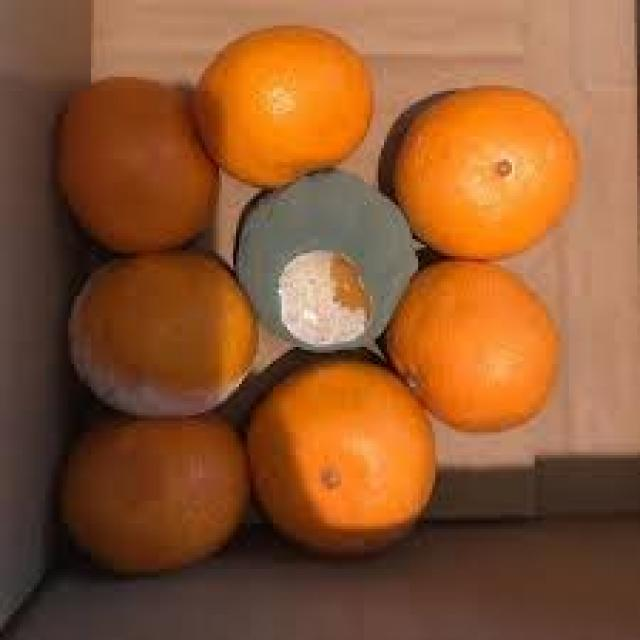organic waste: (245, 355, 435, 552), (231, 165, 418, 353), (390, 82, 577, 259), (63, 248, 256, 418), (54, 406, 248, 574), (384, 253, 558, 432), (190, 23, 372, 182), (52, 77, 214, 250)
